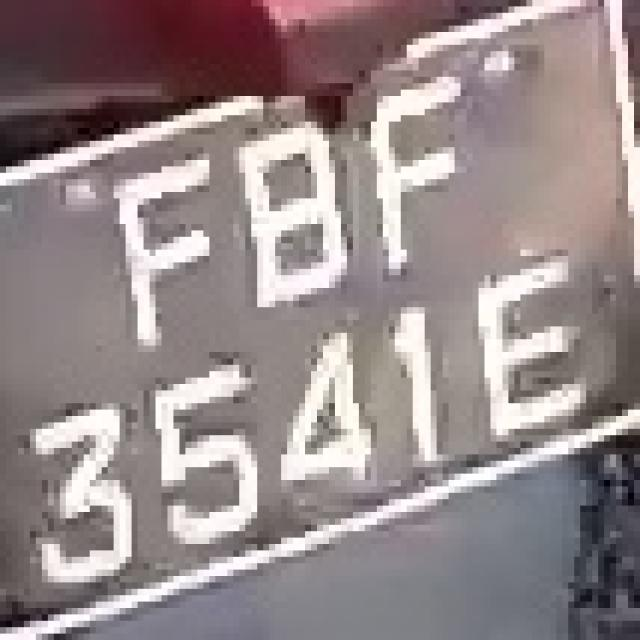1: (377, 275, 442, 512)
3: (24, 378, 137, 602)
4: (251, 314, 401, 506)
5: (150, 339, 275, 557)
B: (221, 96, 347, 333)
E: (467, 243, 610, 454)
F: (347, 51, 472, 282), (102, 140, 227, 346)
